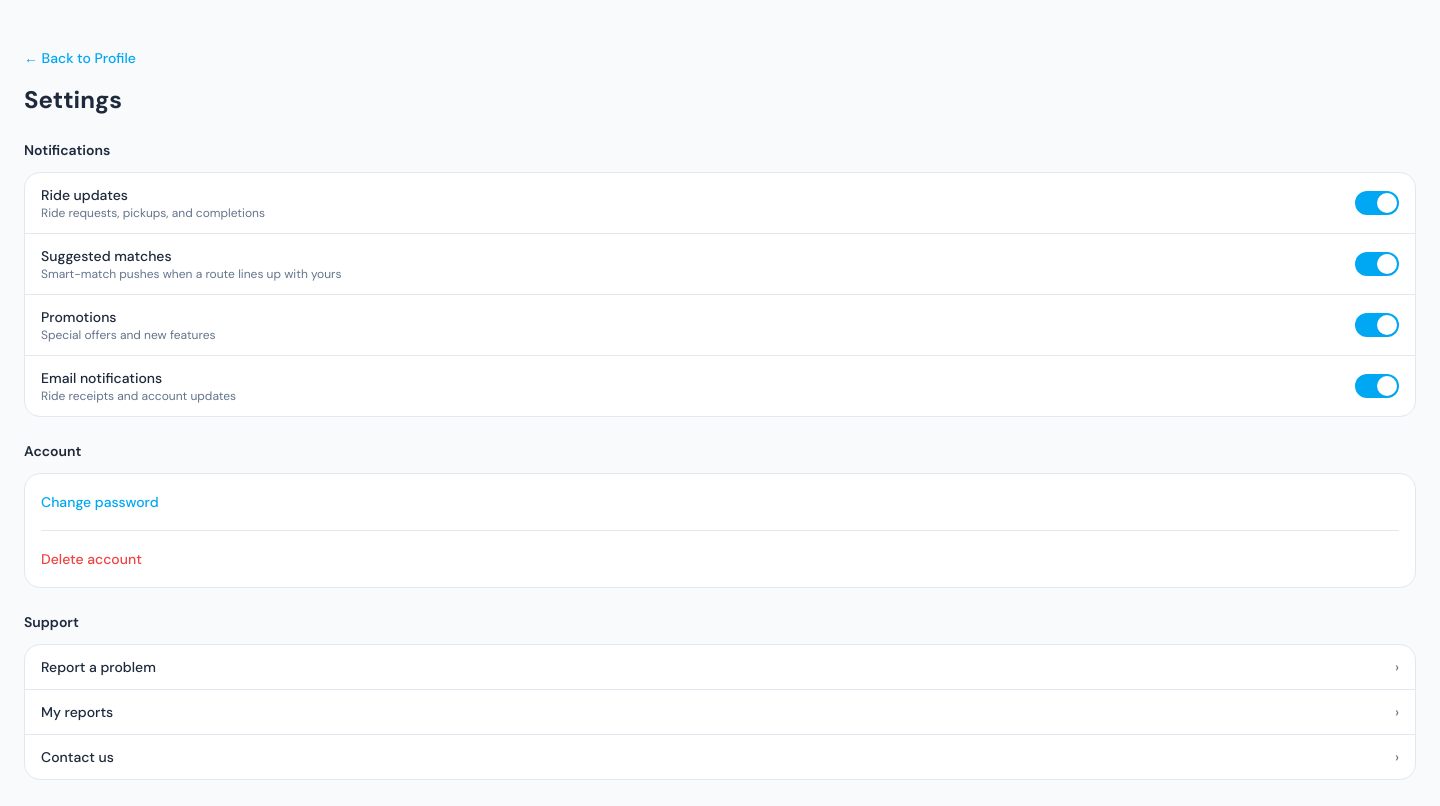
Test: SettingsPage › validates password match
This screenshot has width=1440, height=806.
Click the button with test id "change-password-button" at (100, 502), box [41,492,159,512]
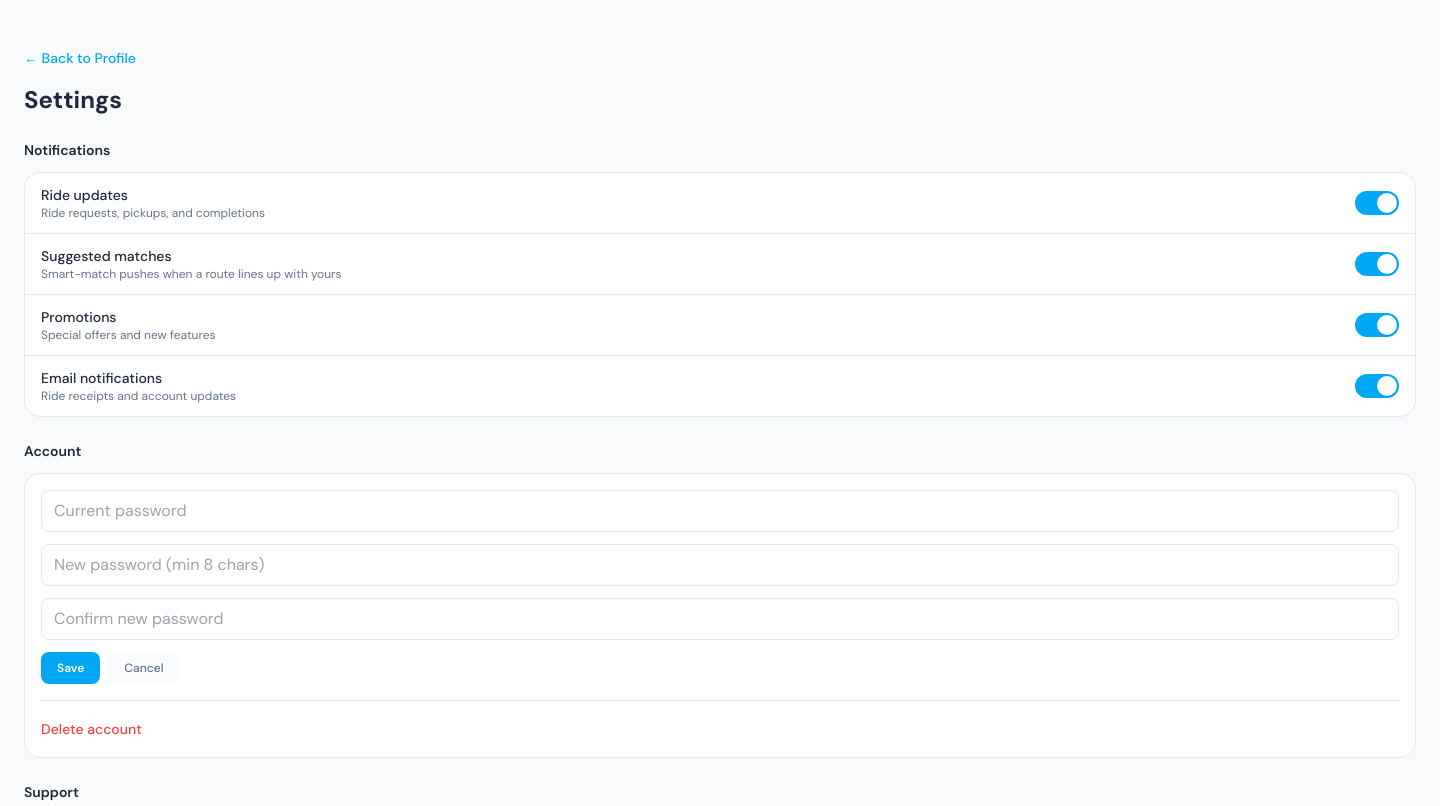
Type "currentPw1" into the password field with test id "current-password-input" at (720, 511), box [41,490,1399,532]
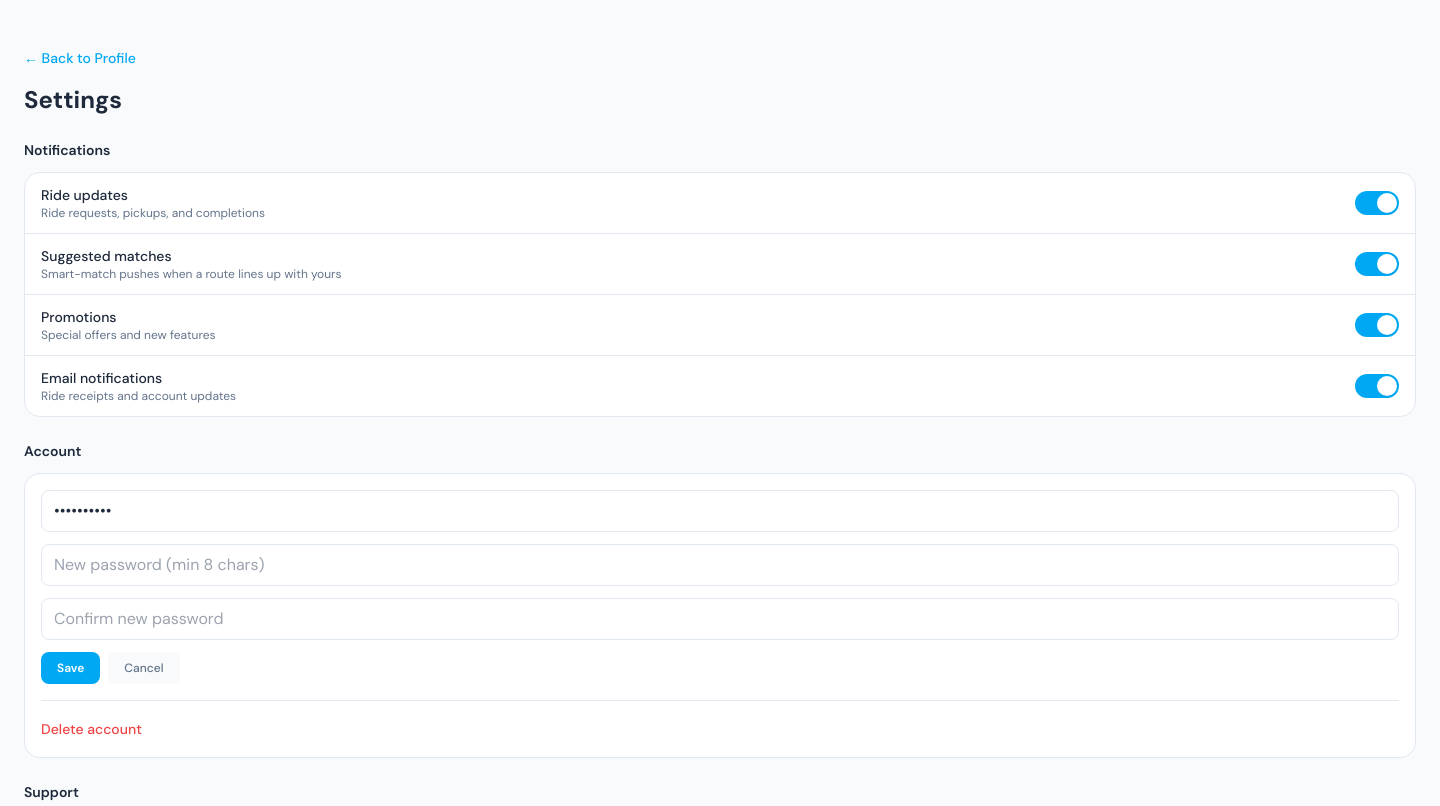
Type "longenough1" into the password field with test id "new-password-input" at (720, 565), box [41,544,1399,586]
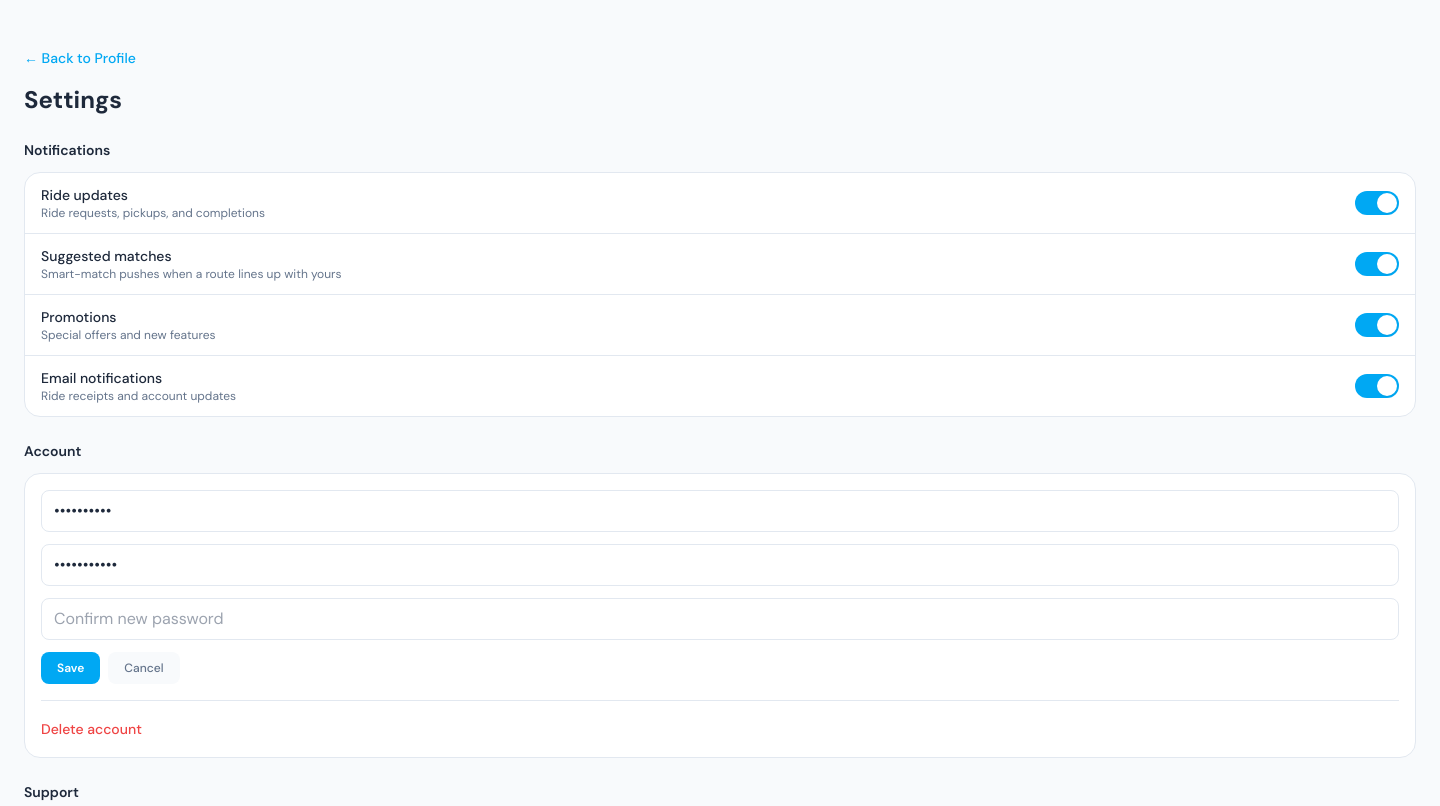
Type "different1" into the password field with test id "confirm-password-input" at (720, 619), box [41,598,1399,640]
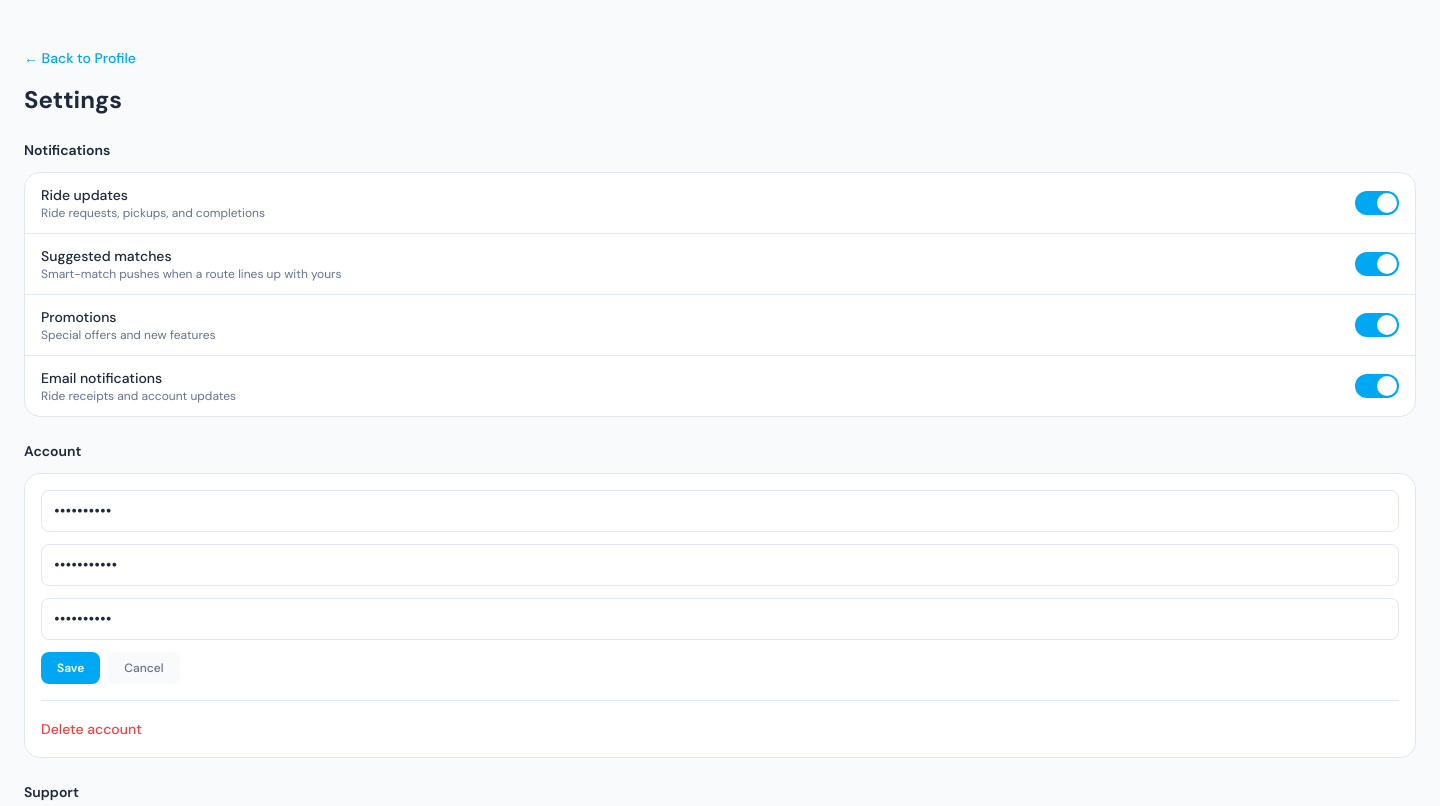
Click the button with test id "save-password-button" at (71, 668), box [41,652,100,684]
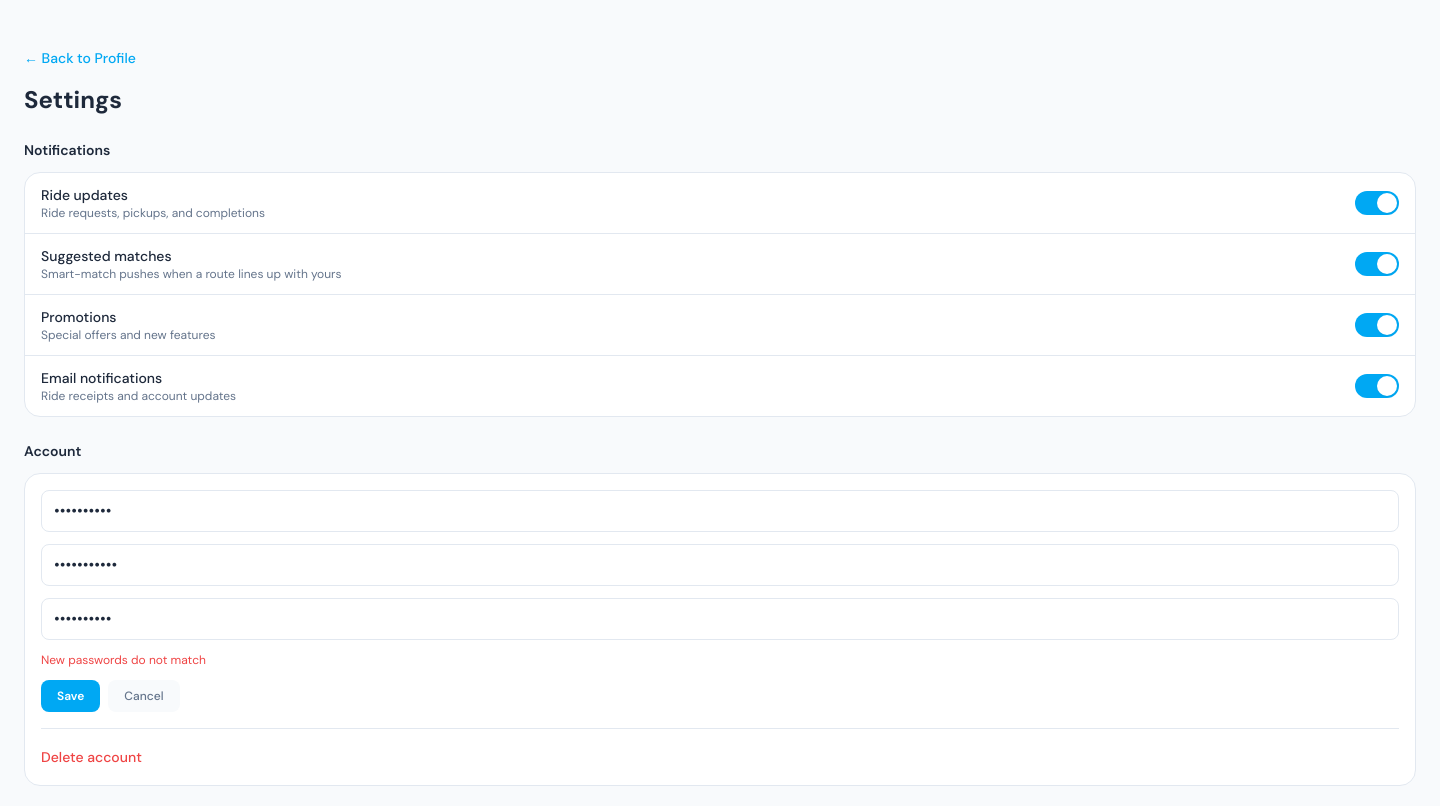
Expected: the text with test id "password-error" reads "New passwords do not match", [41,652,206,668]
